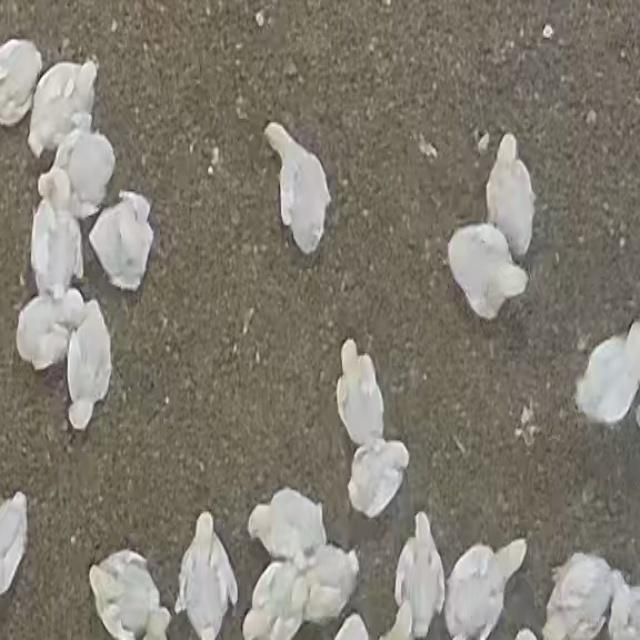chicken: (260, 114, 336, 259), (442, 534, 531, 640), (443, 222, 532, 322), (176, 512, 238, 637), (481, 128, 539, 260), (27, 59, 101, 161), (392, 512, 449, 640), (89, 549, 169, 640), (47, 121, 118, 218), (576, 321, 640, 425), (14, 289, 88, 375), (89, 192, 153, 290), (65, 300, 114, 428), (245, 489, 327, 564), (333, 333, 388, 442), (348, 440, 408, 518), (1, 39, 44, 126)
